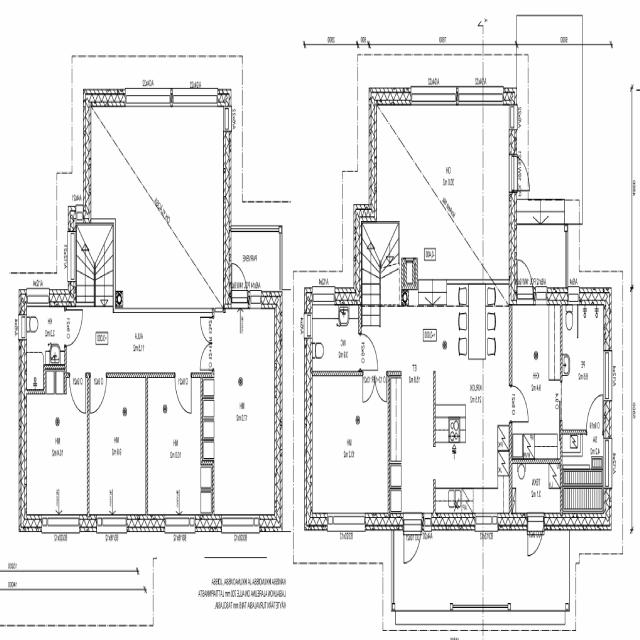door: (404, 514, 422, 568), (517, 253, 533, 306), (509, 157, 533, 191), (232, 258, 247, 309), (528, 514, 543, 564), (69, 373, 86, 414), (509, 386, 528, 422), (90, 373, 106, 414), (359, 334, 377, 370), (64, 310, 82, 346), (175, 373, 191, 413), (587, 396, 602, 435), (199, 317, 214, 344), (199, 344, 214, 370), (375, 372, 387, 402), (363, 372, 375, 402)
